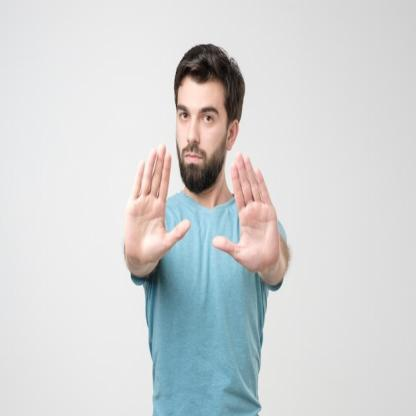stop: (122, 140, 192, 267), (212, 152, 283, 276)
